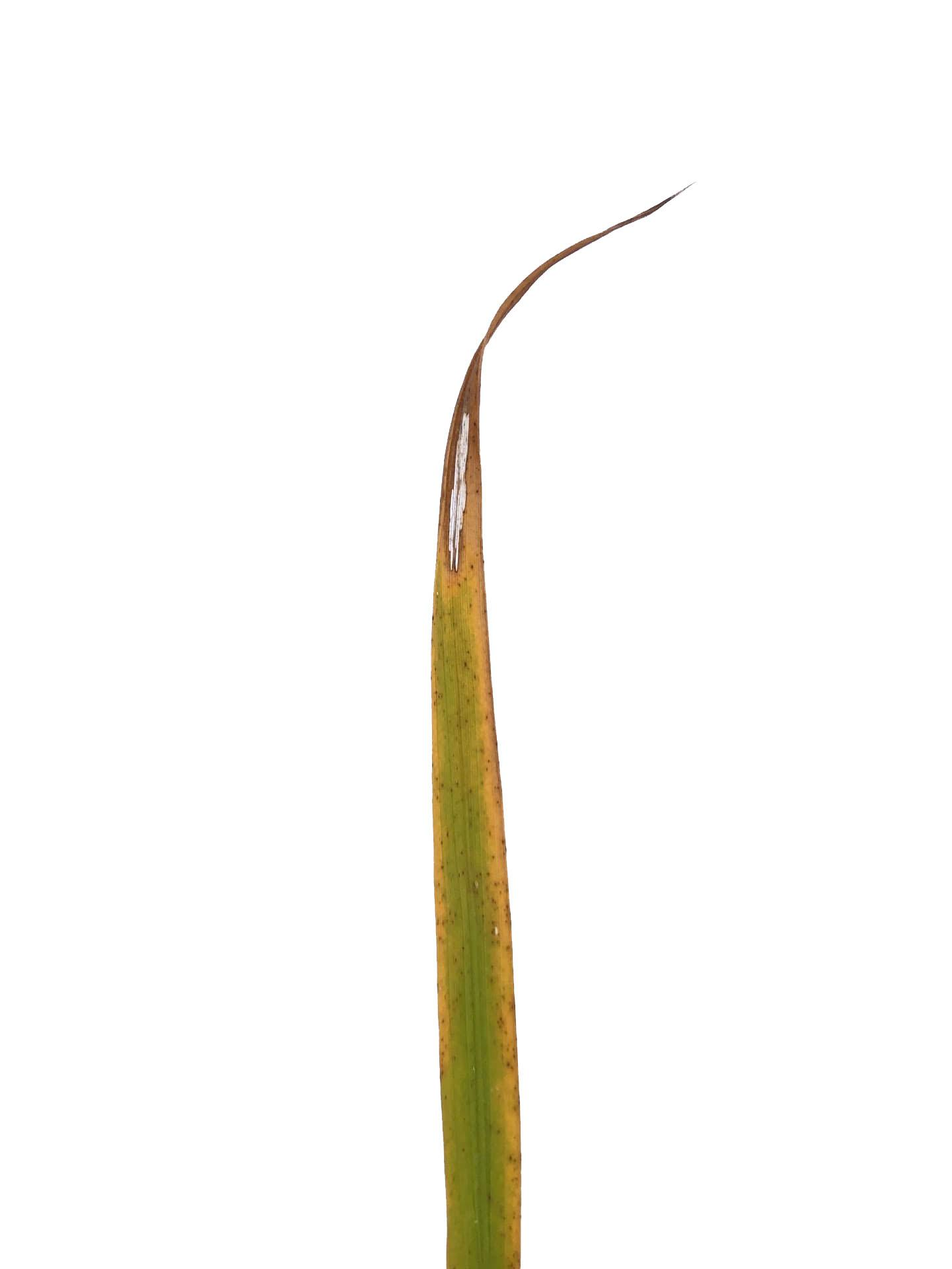Blight: (437, 411, 481, 574)
Tungro: (433, 562, 516, 1009), (447, 1017, 518, 1265)
